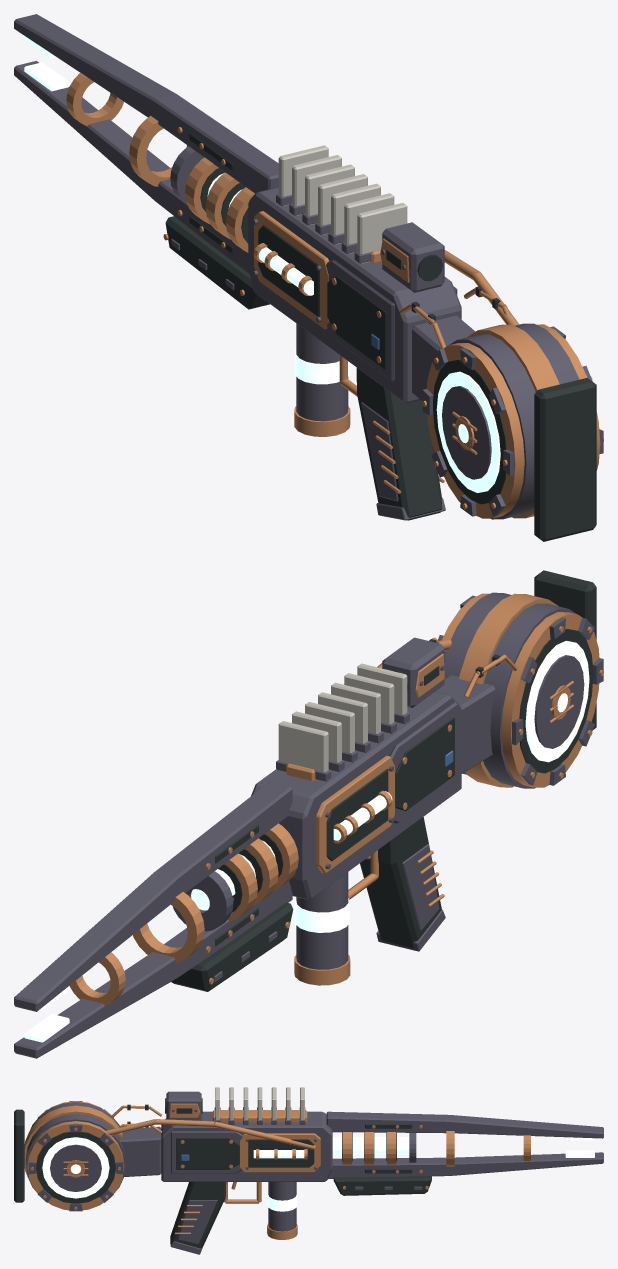
The model's file is laser_2.glb.
3 renders of one model, top to bottom at view 1: azimuth 30°, elevation 25°; view 2: azimuth 150°, elevation 25°; view 3: azimuth 270°, elevation 25°, orthographic. The views are drawn at different scales.
Visible parts, largest first — view 1: Weapon_laser_v1; view 2: Weapon_laser_v1; view 3: Weapon_laser_v1.
Boxes of the visible parts, box(x1,y1,x2,y2) form: Weapon_laser_v1: box(14, 14, 603, 541); Weapon_laser_v1: box(14, 570, 603, 1058); Weapon_laser_v1: box(14, 1087, 603, 1254).
Bounding box in the file's own units: 0.106 × 0.2927 × 1.
